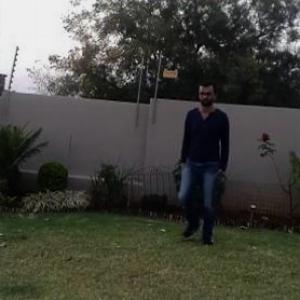follow: (177, 82, 231, 240)
